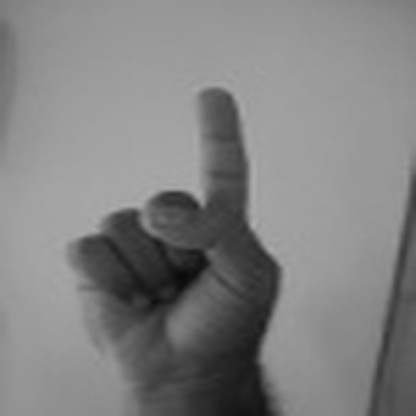d: (66, 81, 288, 365)
